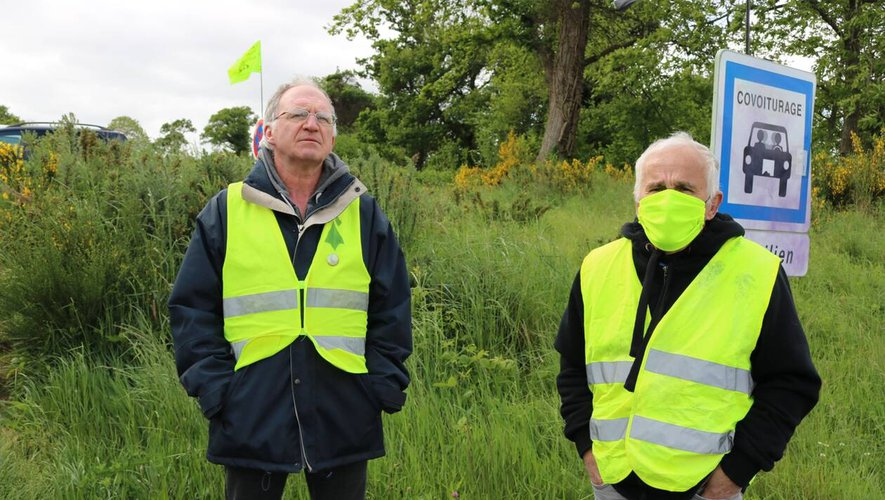with_mask: (639, 163, 716, 256)
without_mask: (276, 96, 332, 175)
